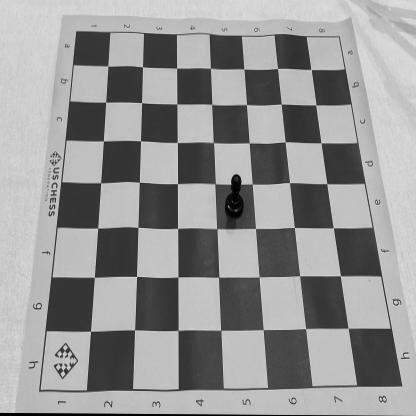black-pawn: (224, 174, 245, 219)
